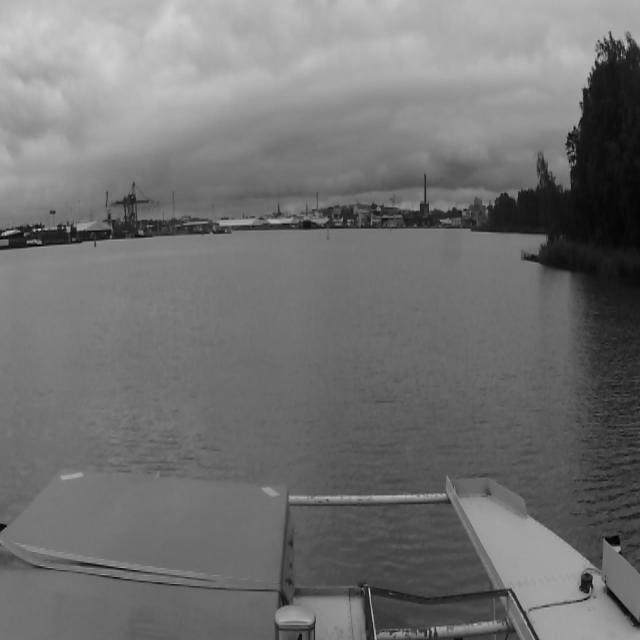buoy: (327, 227, 329, 239)
ship: (302, 204, 312, 230)
